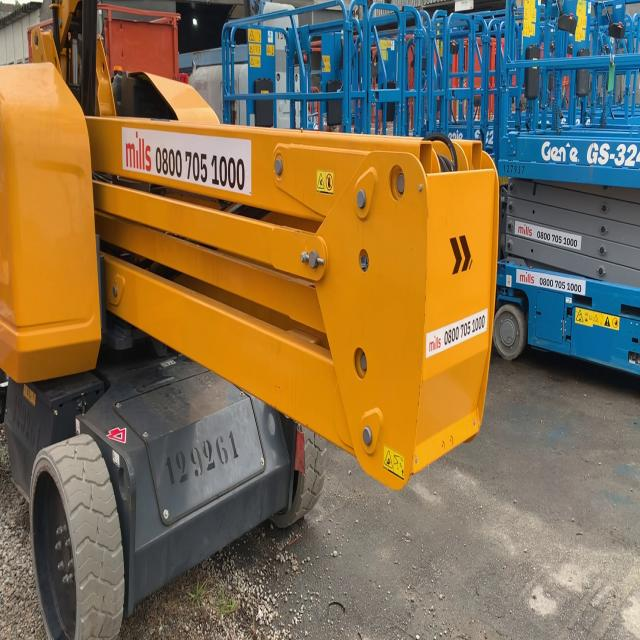Adesivo Longo: (120, 124, 253, 199), (425, 306, 489, 361), (514, 219, 583, 252), (515, 268, 587, 297)
